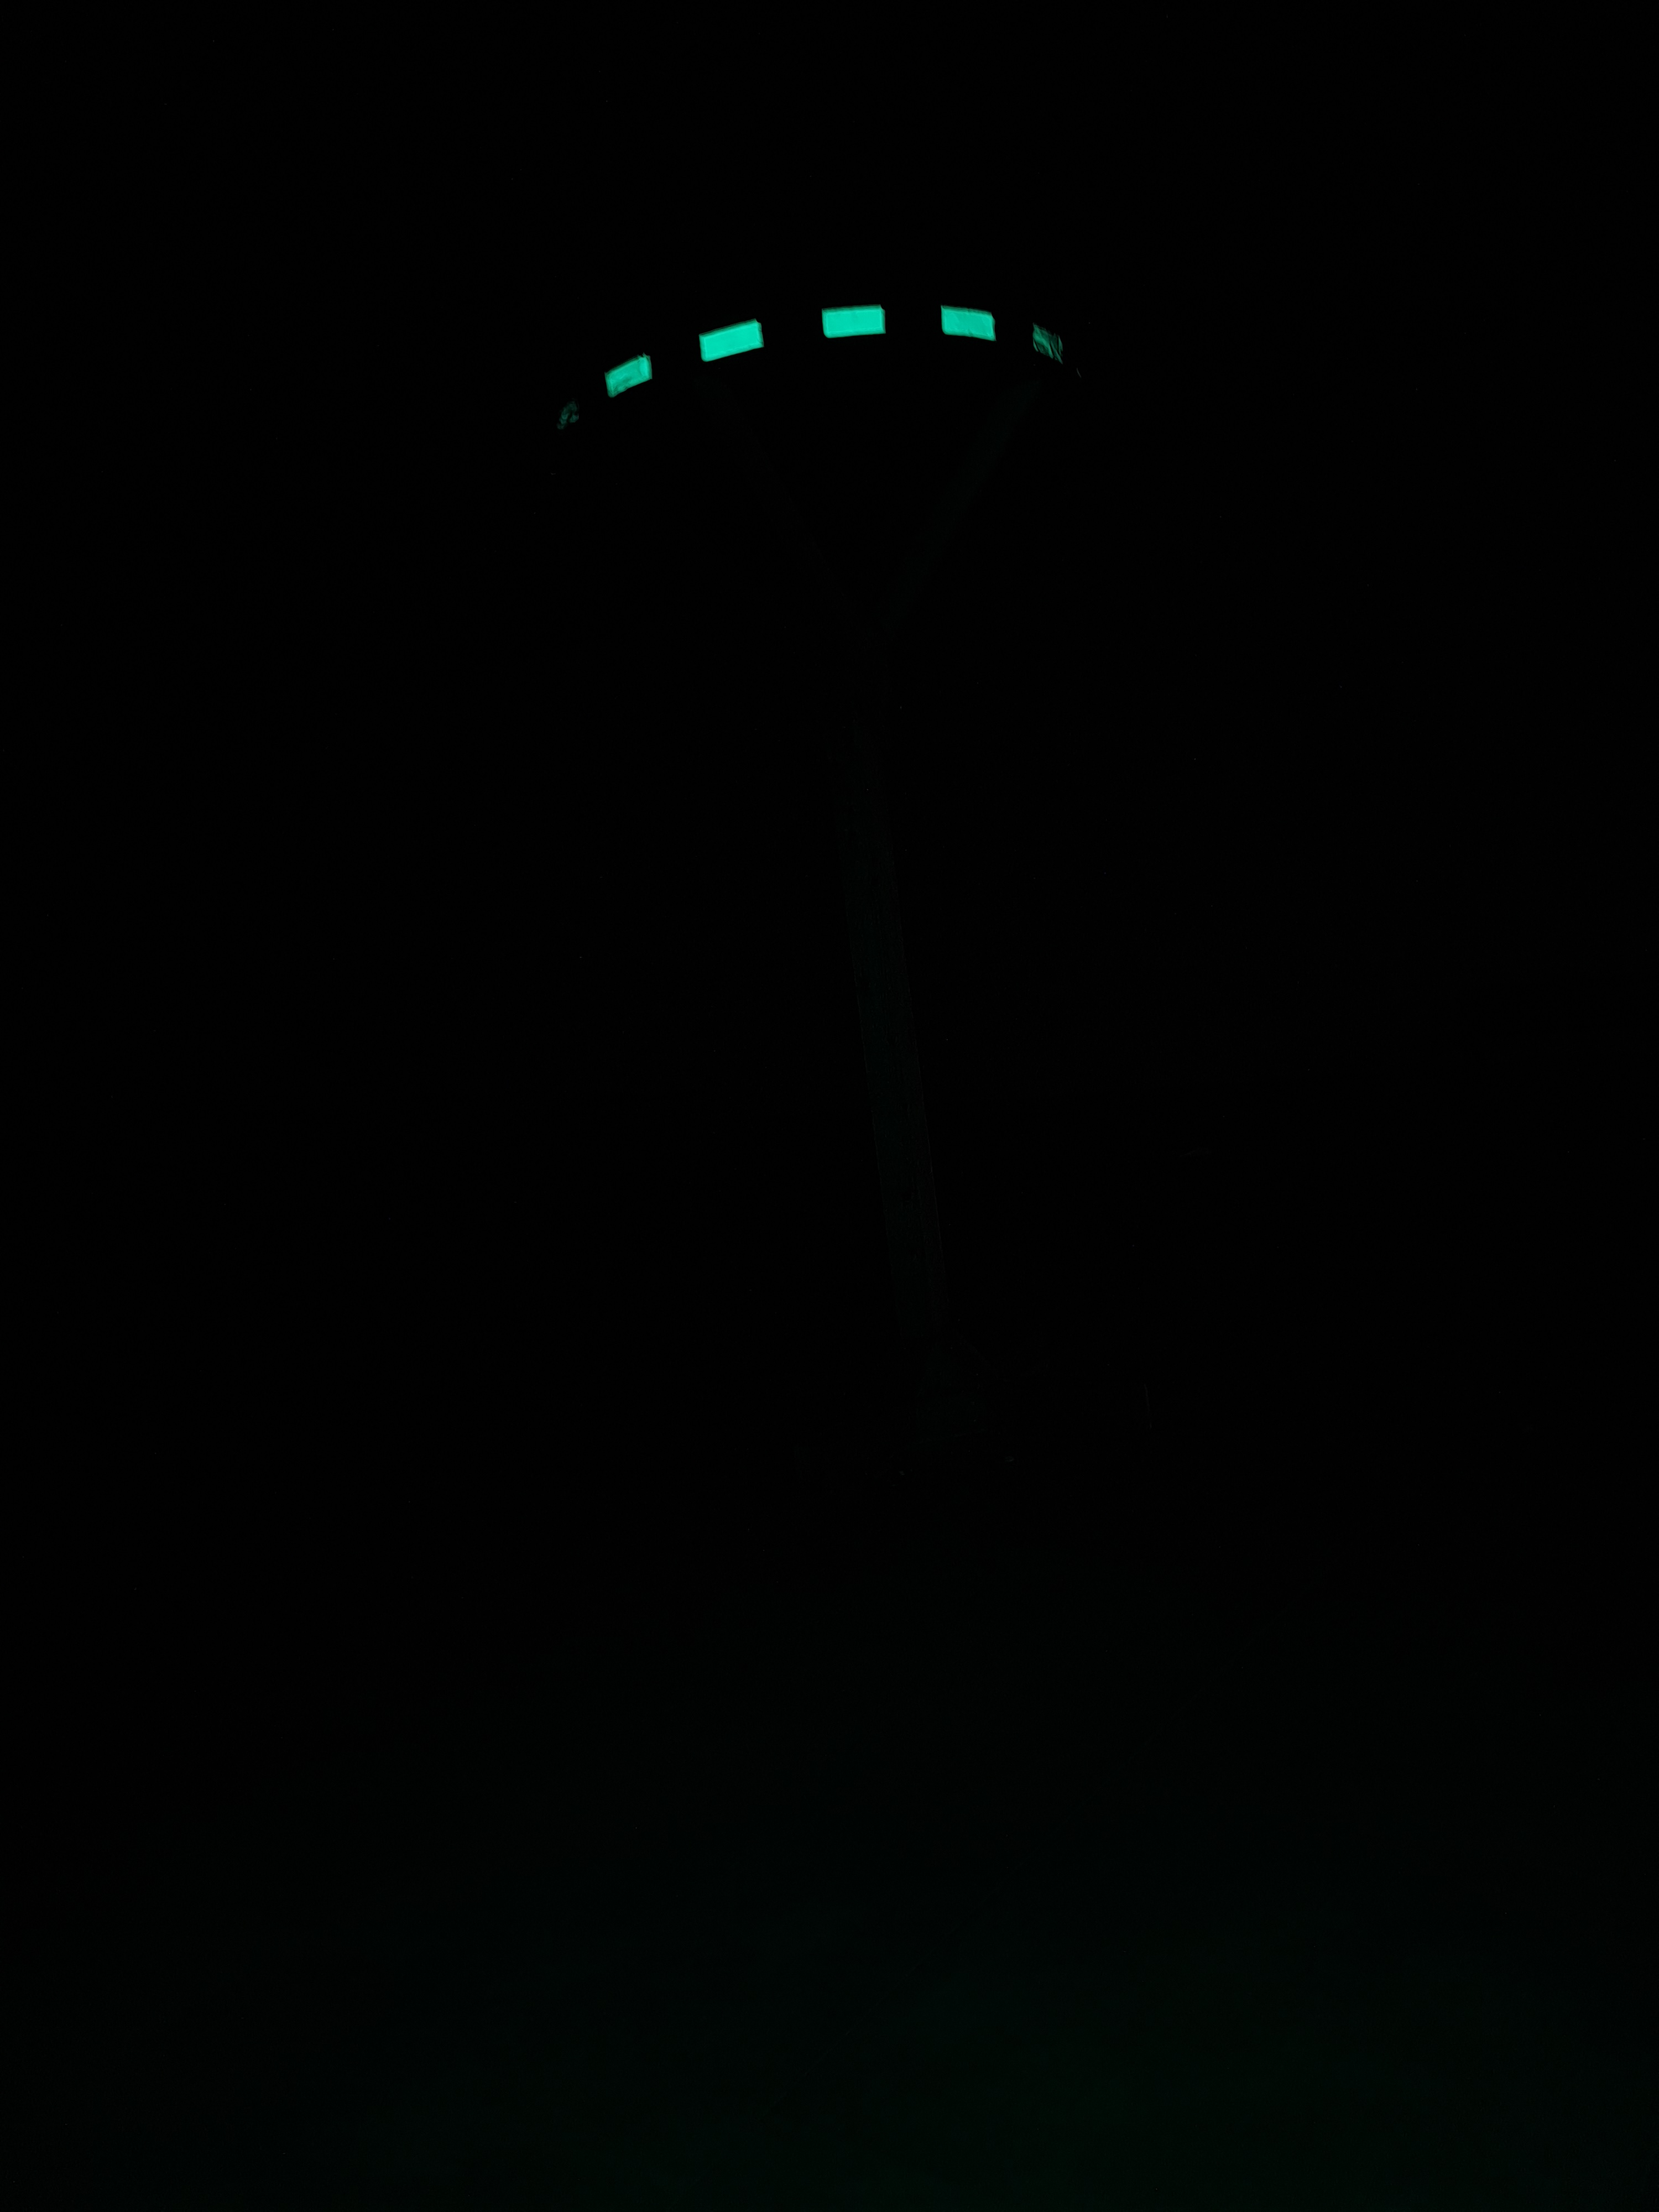hoop: (535, 303, 1065, 425)
